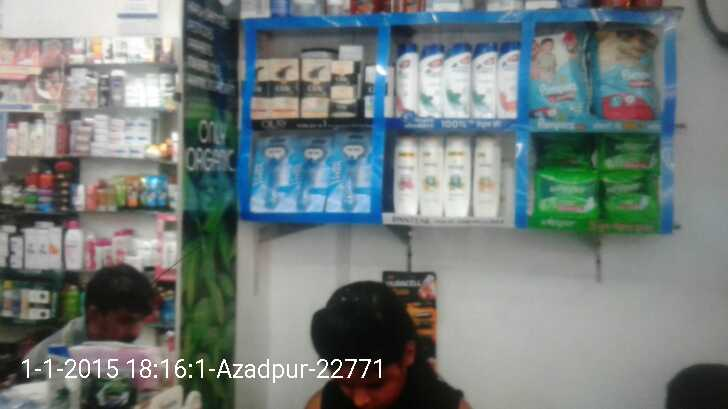venus: (254, 135, 295, 208), (330, 133, 368, 209), (295, 135, 330, 209)
